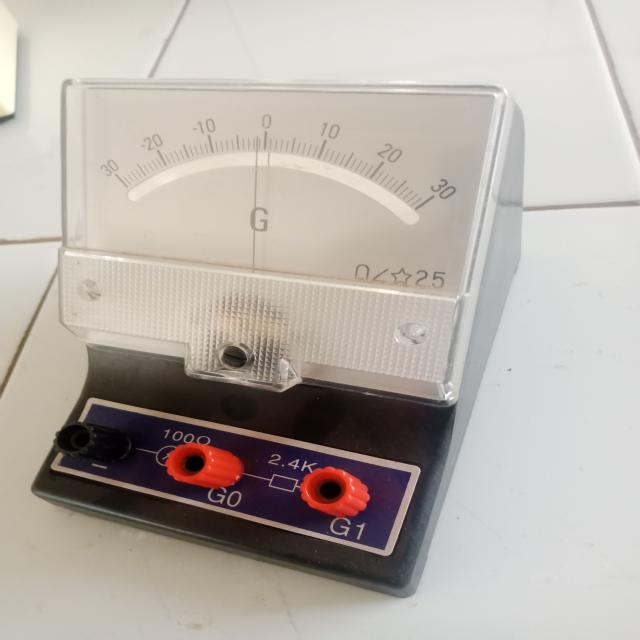Galvanometer: (18, 59, 530, 598)
